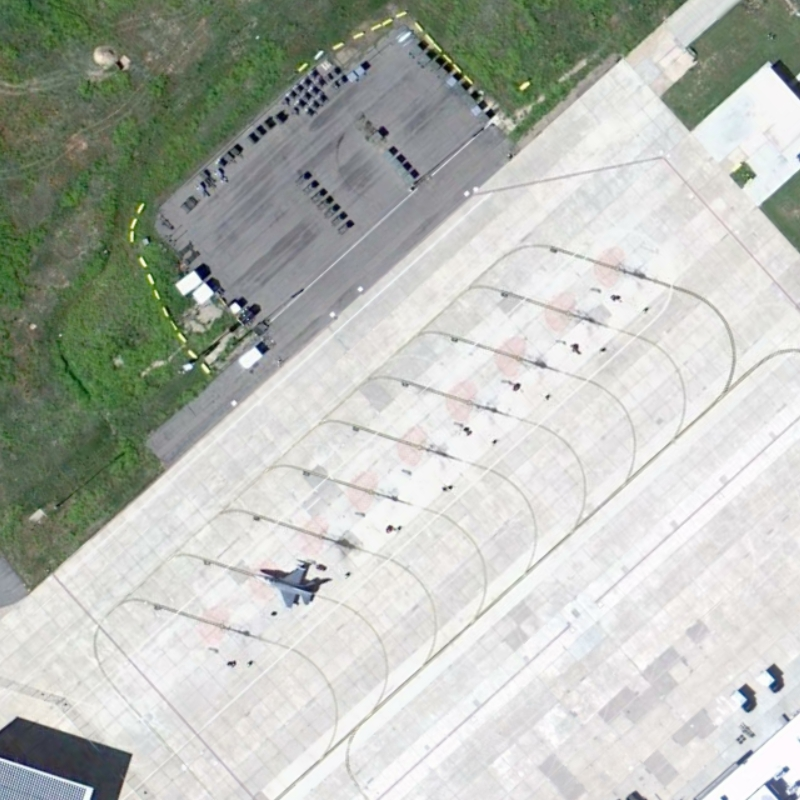A5: (252, 557, 329, 616)
